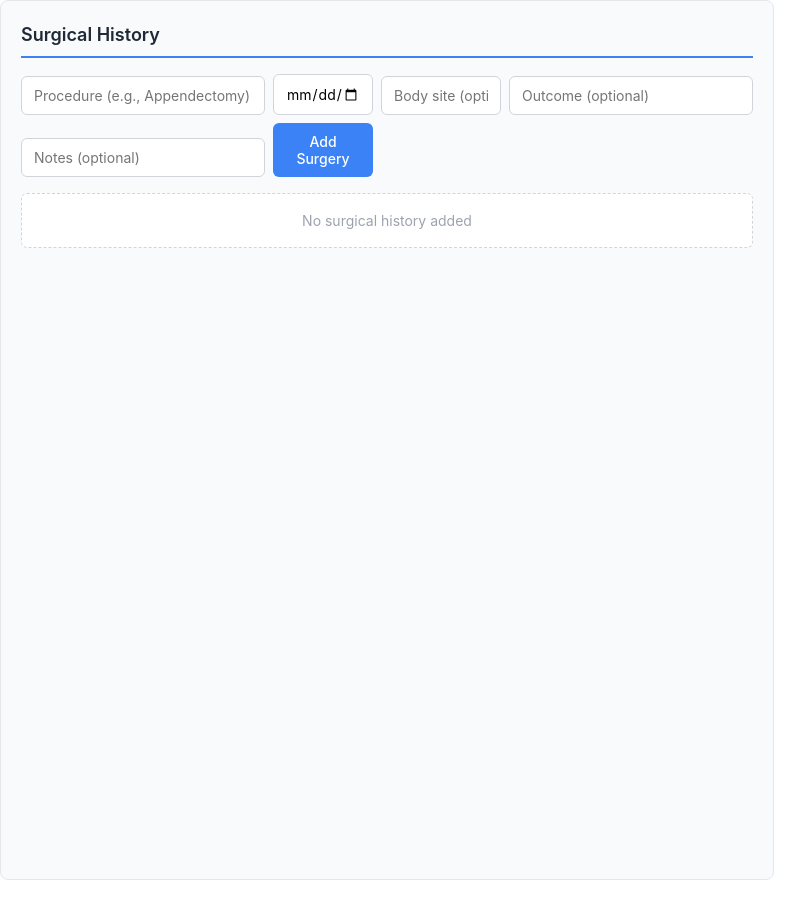
Test: SurgicalHistory (non-wizard) › adds a surgery to the list
This screenshot has width=791, height=897.
Type "Appendectomy" into the field with placeholder "Procedure (e.g., Appendectomy)" at point(143, 96), box [21,76,265,115]
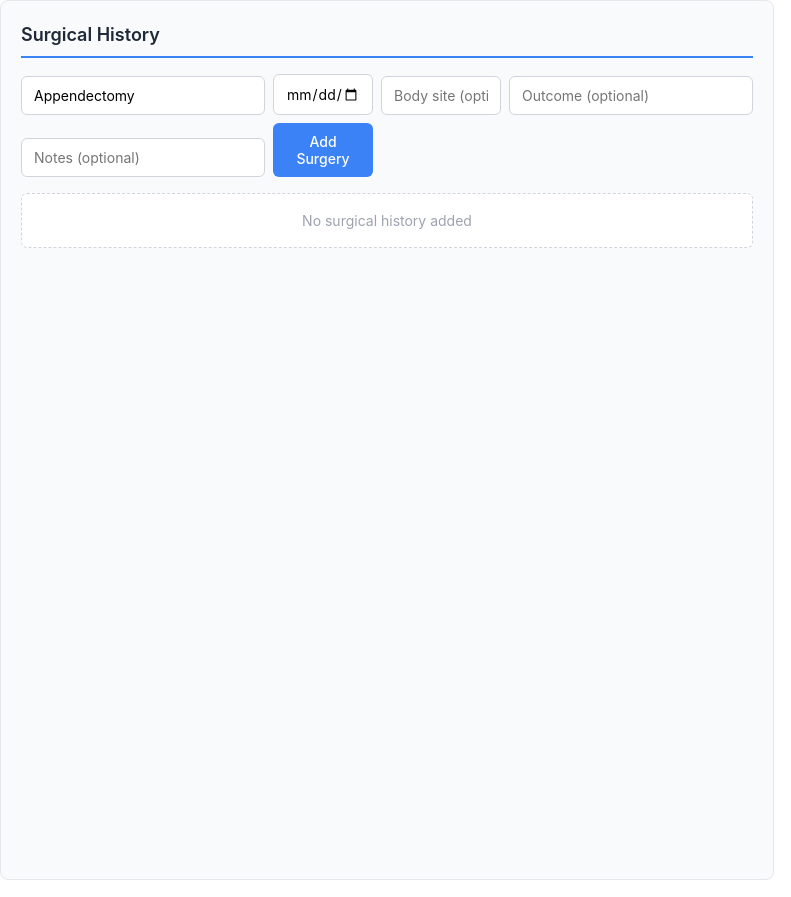
Click the button "Add Surgery" at point(323, 150), box [273,123,373,177]
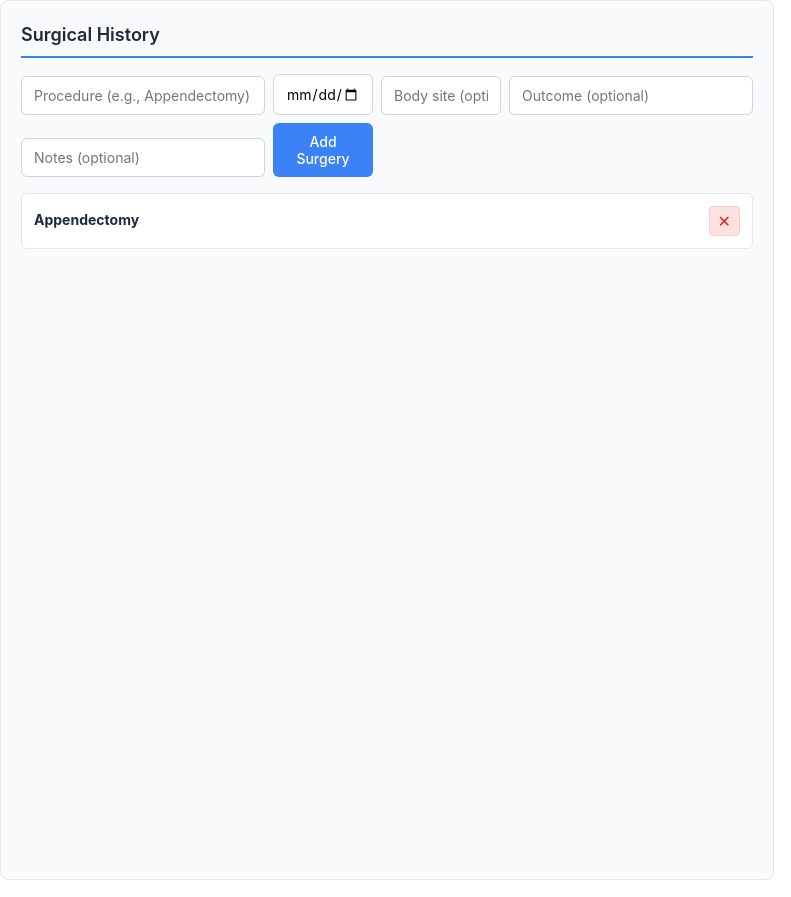
Expected: the text "Appendectomy" is shown, [34,210,139,228]
